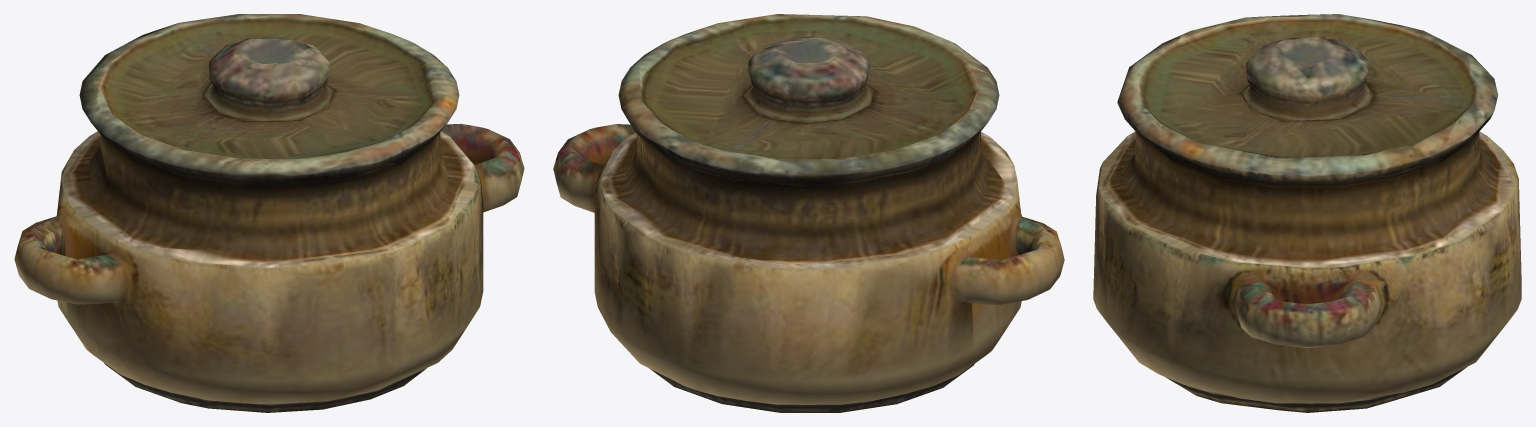
File: ceramic_pot.gltf
3 renders of one model, left to right at view 1: azimuth 30°, elevation 25°; view 2: azimuth 150°, elevation 25°; view 3: azimuth 270°, elevation 25°, orthographic.
Parts seen in each view (by area): view 1: ceramic_pot; view 2: ceramic_pot; view 3: ceramic_pot.
Part boxes in pixels (x1,y1,x2,y2): ceramic_pot: [14, 14, 524, 412]; ceramic_pot: [553, 14, 1064, 412]; ceramic_pot: [1093, 14, 1521, 412].
Size of the model in its own units: 0.6563 by 0.3717 by 0.4989.
1 material, 1 textured.
